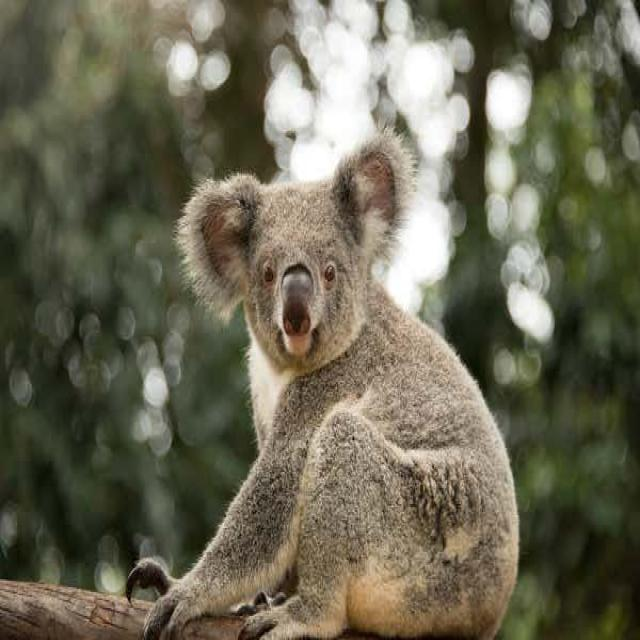Koala: (128, 125, 518, 639)
